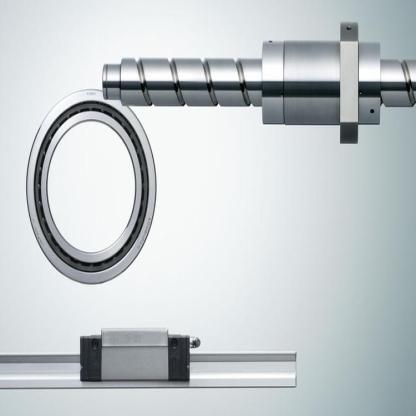FOD: (23, 87, 157, 287)
